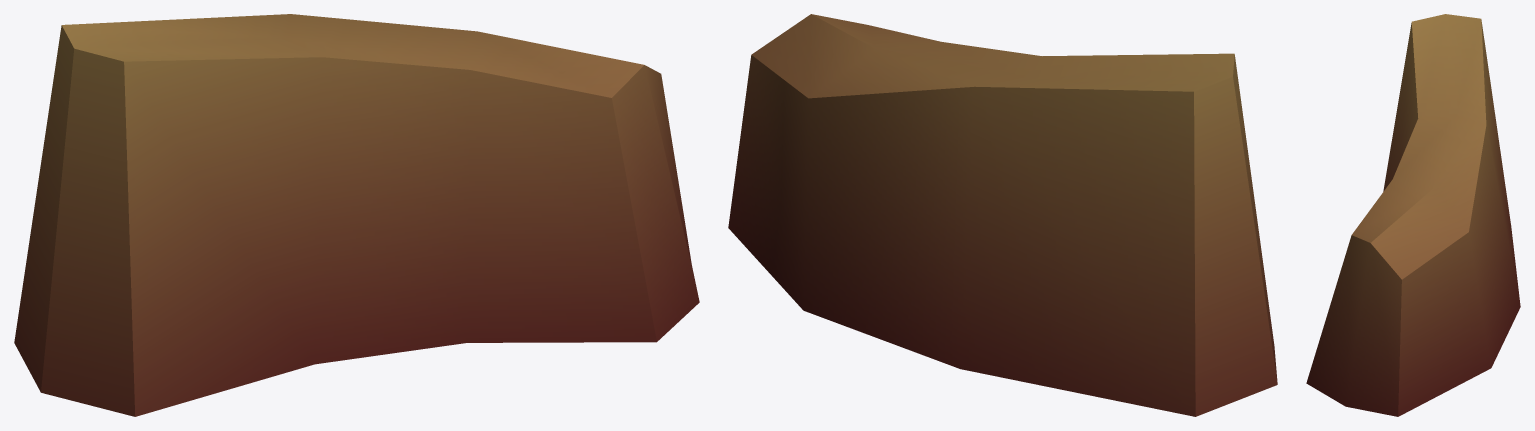
The model's file is Mountain_medium.001.fbx.
3 renders of one model, left to right at view 1: azimuth 30°, elevation 25°; view 2: azimuth 150°, elevation 25°; view 3: azimuth 270°, elevation 25°, orthographic. The views are drawn at different scales.
Parts seen in each view (by area): view 1: Mountain_medium.001; view 2: Mountain_medium.001; view 3: Mountain_medium.001.
Part boxes in pixels (<box>): Mountain_medium.001: <box>14,14,699,416</box>; Mountain_medium.001: <box>728,14,1277,416</box>; Mountain_medium.001: <box>1306,14,1520,416</box>.
Size of the model in its own units: 56.02 by 28.56 by 25.53.
